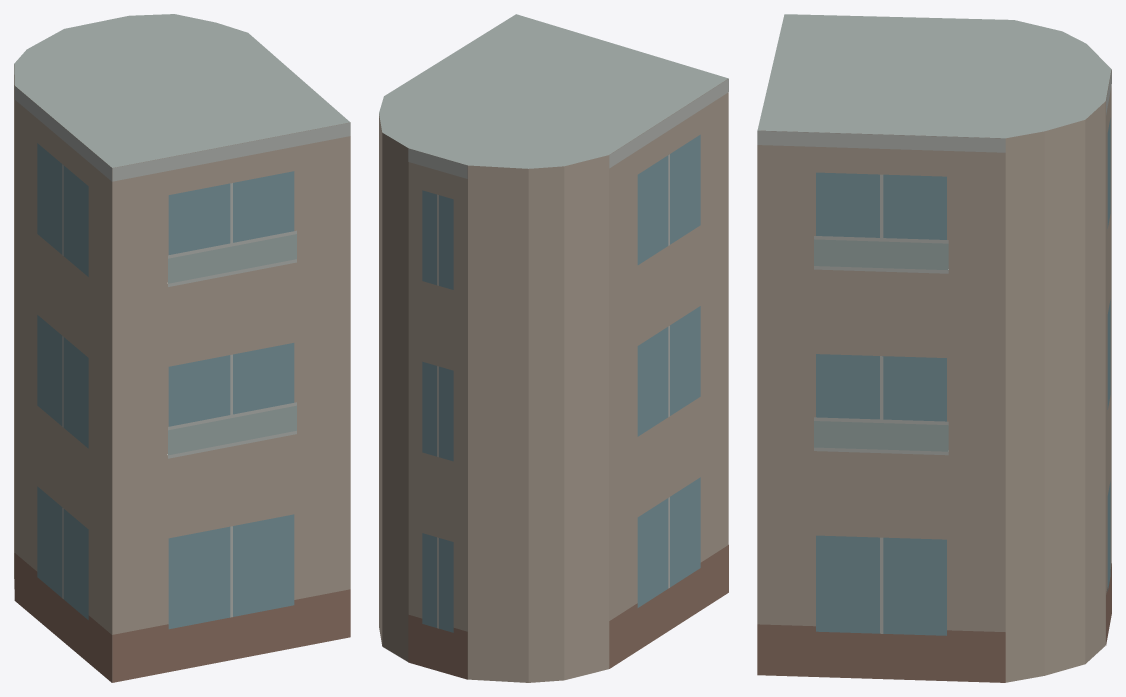
File: survey-upis-32841339.glb
The picture shows the model from 3 angles, left to right: view 1: azimuth 30°, elevation 25°; view 2: azimuth 150°, elevation 25°; view 3: azimuth 270°, elevation 25°; orthographic projection. The views are drawn at different scales.
Visible parts, largest first — view 1: survey-upis-32841339.tmp; view 2: survey-upis-32841339.tmp; view 3: survey-upis-32841339.tmp.
Boxes of the visible parts, bbox=[...] form: survey-upis-32841339.tmp: bbox=[14, 14, 350, 682]; survey-upis-32841339.tmp: bbox=[379, 14, 728, 682]; survey-upis-32841339.tmp: bbox=[757, 14, 1111, 682].
Size of the model in its own units: 4.49 by 9.15 by 5.4.
